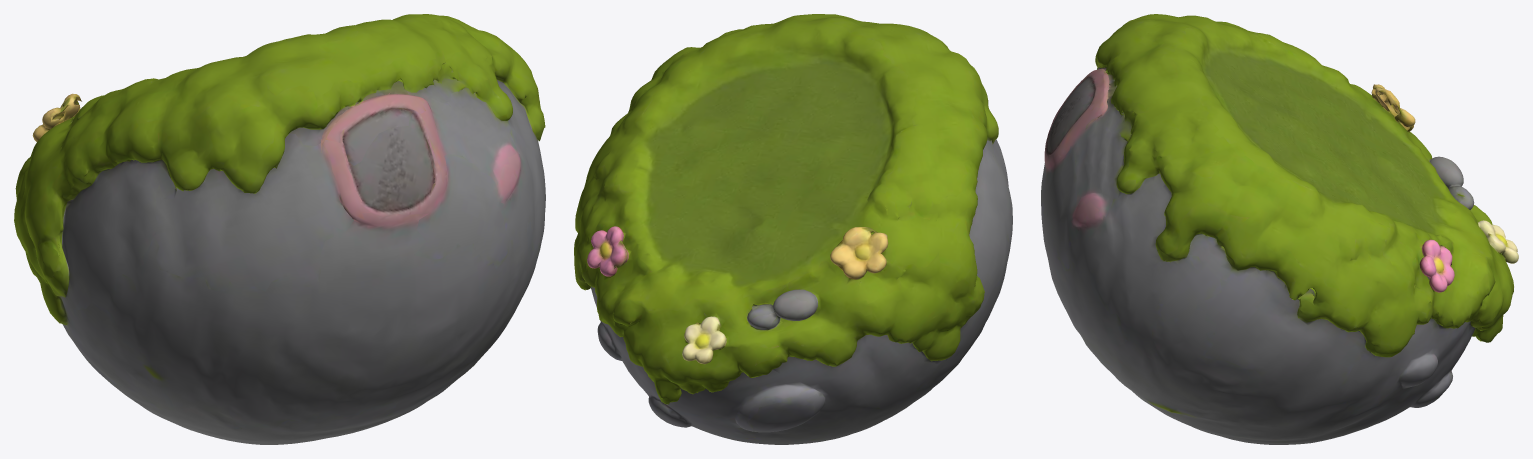
The model's file is planet_home.glb.
3 views of the same model, side by side, from view 1: azimuth 30°, elevation 25°; view 2: azimuth 150°, elevation 25°; view 3: azimuth 270°, elevation 25° (orthographic). The views are drawn at different scales.
Parts seen in each view (by area): view 1: geometry_0; view 2: geometry_0; view 3: geometry_0.
Part boxes in pixels (left/top/right/bottom): geometry_0: left=14, top=14, right=545, bottom=444; geometry_0: left=574, top=14, right=1012, bottom=444; geometry_0: left=1041, top=14, right=1518, bottom=444.
Size of the model in its own units: 0.8093 by 0.7399 by 0.8524.
Materials: 1 (1 with a texture image).
